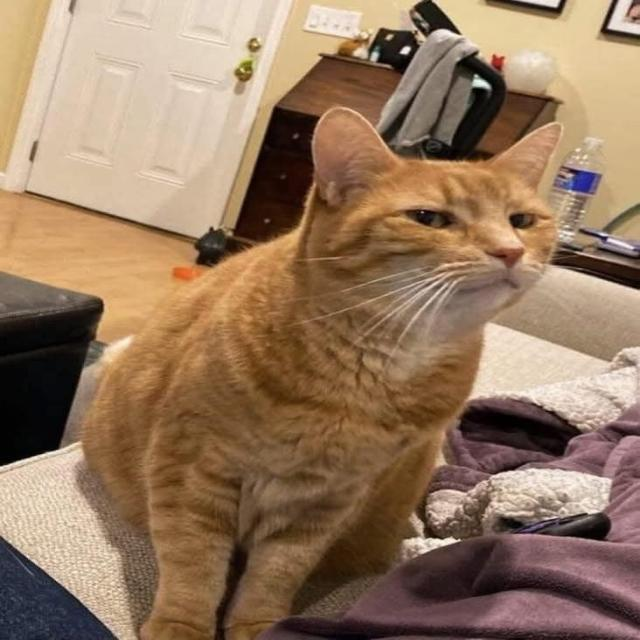sarman: (54, 136, 640, 613)
